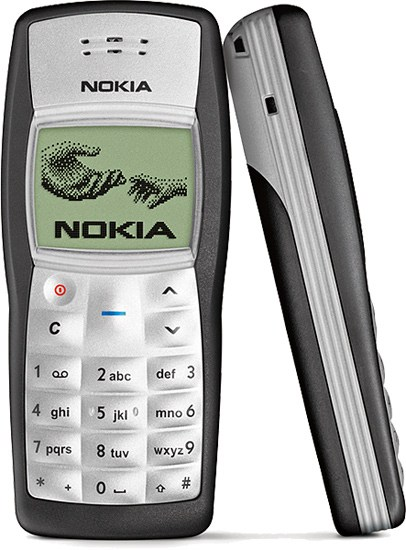Phone: (1, 1, 232, 541), (222, 3, 406, 539)
